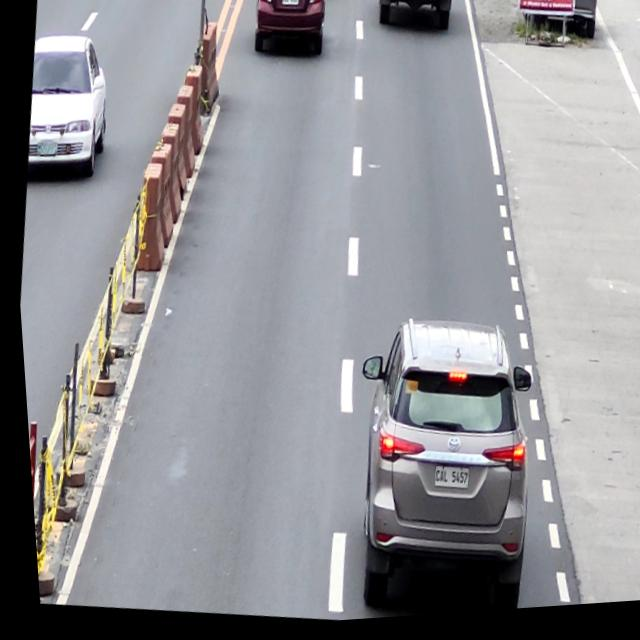Car: (326, 309, 548, 624), (247, 0, 331, 68)
License-Plate: (426, 468, 464, 495), (281, 0, 299, 10)
